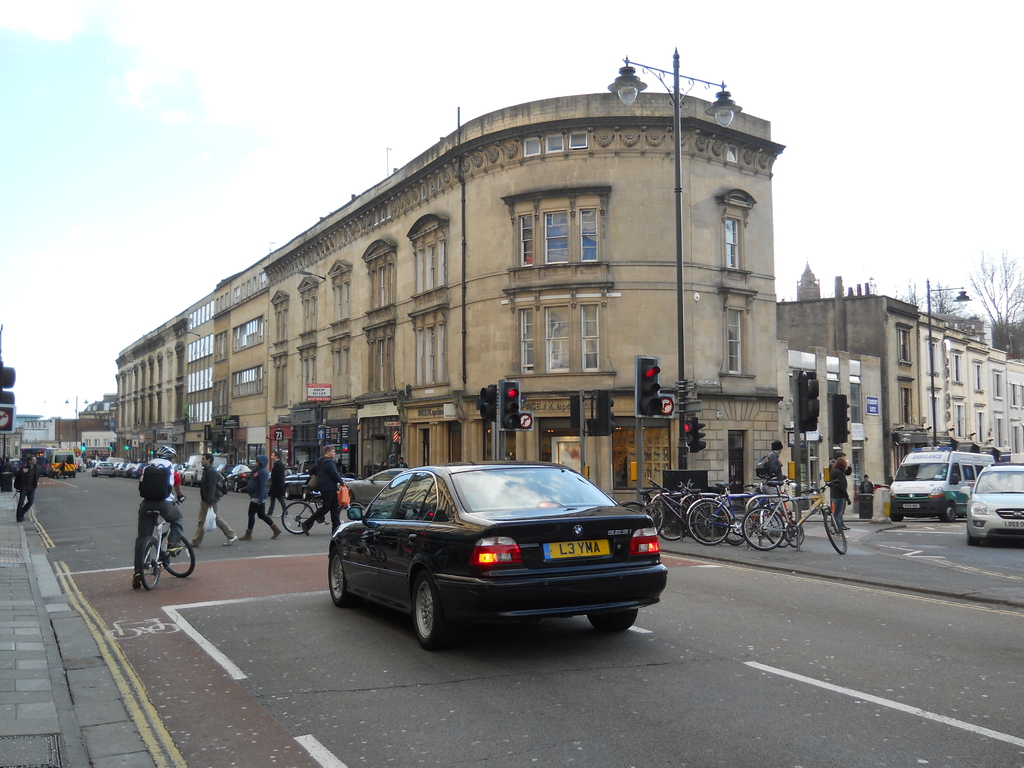license plate: (544, 541, 612, 558)
